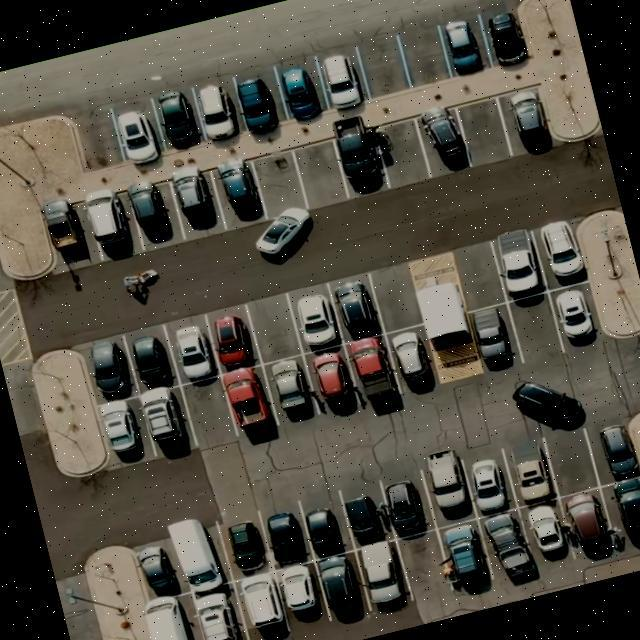space-empty: (584, 210, 640, 310), (395, 527, 454, 604), (540, 422, 599, 497), (180, 374, 238, 450), (505, 292, 564, 366), (248, 145, 308, 217), (366, 260, 424, 334), (354, 30, 412, 103), (244, 292, 302, 364), (290, 136, 348, 208), (456, 94, 512, 166), (377, 116, 433, 187), (450, 242, 506, 312), (68, 102, 122, 172), (395, 22, 450, 90)
space-occupied: (162, 514, 228, 596), (414, 446, 477, 528), (328, 116, 391, 197), (350, 538, 414, 616), (185, 72, 248, 150), (308, 42, 372, 118), (429, 517, 494, 591), (78, 182, 138, 262), (218, 364, 280, 441), (300, 342, 361, 420), (486, 228, 550, 302), (149, 79, 210, 156), (380, 322, 441, 399), (167, 162, 228, 239), (228, 65, 288, 142), (478, 506, 537, 584), (137, 382, 196, 460), (123, 175, 184, 250), (268, 52, 328, 128), (162, 310, 221, 386), (95, 393, 154, 469), (556, 486, 615, 562), (514, 496, 574, 570), (496, 82, 556, 156), (106, 95, 165, 170), (498, 432, 556, 508), (544, 280, 601, 357), (261, 351, 318, 428), (284, 282, 344, 354), (214, 510, 274, 582), (340, 333, 398, 407), (530, 218, 588, 292), (82, 331, 140, 404), (464, 301, 522, 374), (326, 272, 384, 344), (375, 468, 434, 538), (212, 154, 268, 227), (231, 572, 291, 640), (40, 200, 95, 274), (202, 304, 260, 374), (122, 322, 178, 392), (274, 559, 329, 630), (258, 498, 312, 570), (414, 106, 471, 174), (460, 449, 516, 518), (476, 1, 532, 69), (184, 582, 249, 640), (300, 490, 354, 559), (586, 415, 640, 484), (314, 549, 365, 622), (436, 12, 492, 78), (338, 481, 392, 548), (138, 530, 184, 600), (600, 474, 640, 554), (147, 591, 206, 640)
